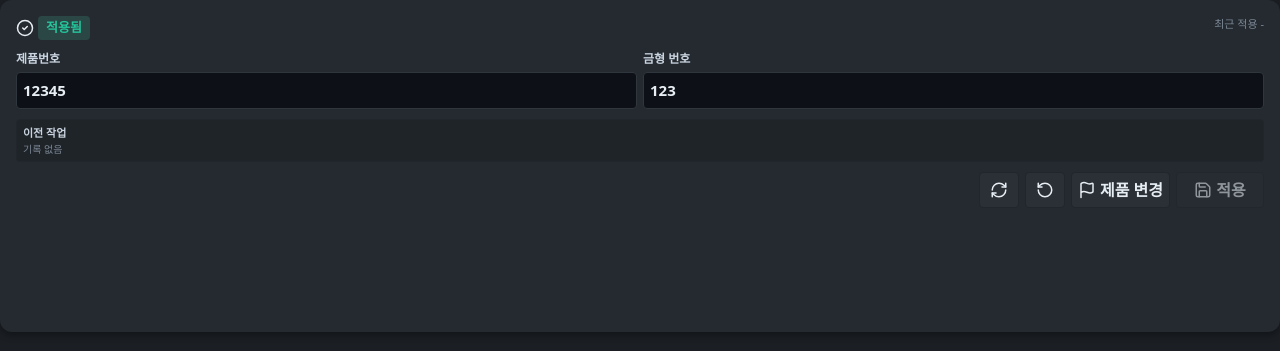
Test: OperatorMetadataComponent › does not show the missing-value animation when resetting applied values fails
The width and height of the screenshot is (1280, 351).
Expected: the field labelled "제품번호" is shown, x1=16 y1=72 x2=637 y2=108
Click the button named "서버 저장값 리셋".
click(1045, 190)  # box x1=1025 y1=172 x2=1065 y2=208
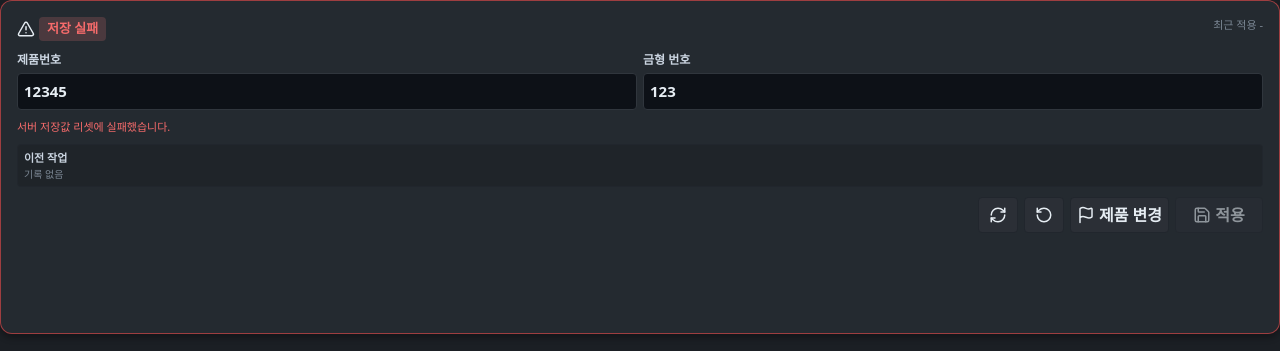
Expected: the field labelled "제품번호" holds "12345", x1=17 y1=73 x2=637 y2=110
Result: the text "서버 저장값 리셋에 실패했습니다." is shown at x1=17 y1=118 x2=170 y2=134
